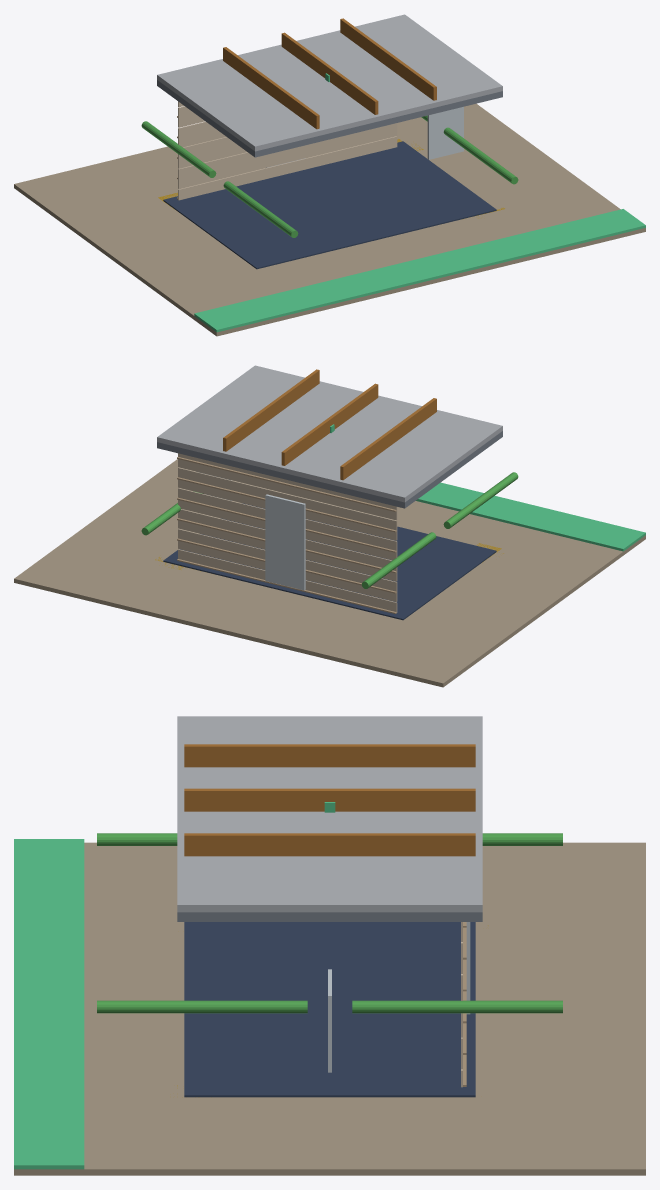
Rendered from stage_12_complete.glb.
The picture shows the model from 3 angles, top to bottom: view 1: azimuth 30°, elevation 25°; view 2: azimuth 150°, elevation 25°; view 3: azimuth 270°, elevation 25°; orthographic projection. The views are drawn at different scales.
Visible parts, largest first — view 1: world; view 2: world; view 3: world.
Boxes of the visible parts, bbox=[...] form: world: bbox=[14, 14, 645, 336]; world: bbox=[14, 365, 645, 687]; world: bbox=[14, 716, 645, 1175].
Size of the model in its own units: 11 by 4.2 by 9.
